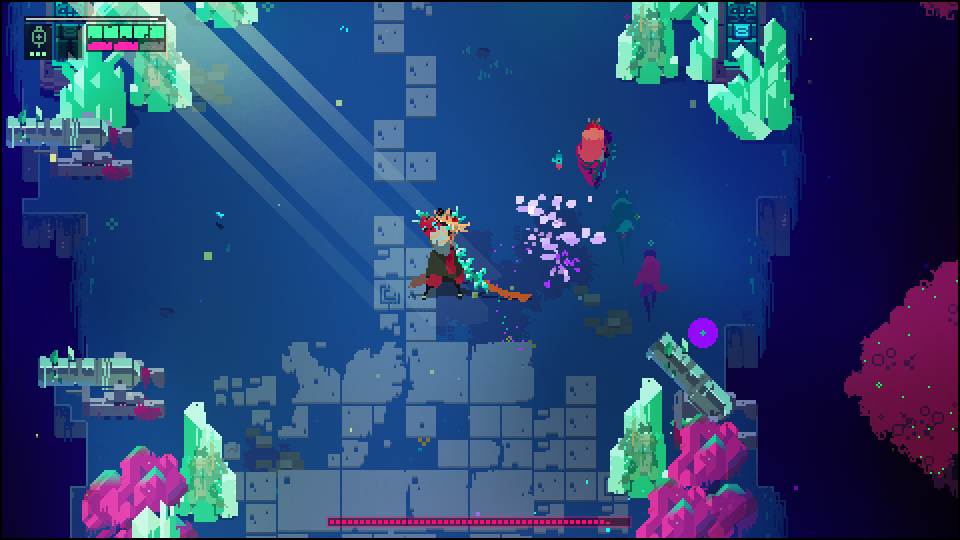hanged_man: (409, 208, 501, 307)
hanged_shot: (684, 316, 721, 350)
player: (577, 113, 606, 176)
